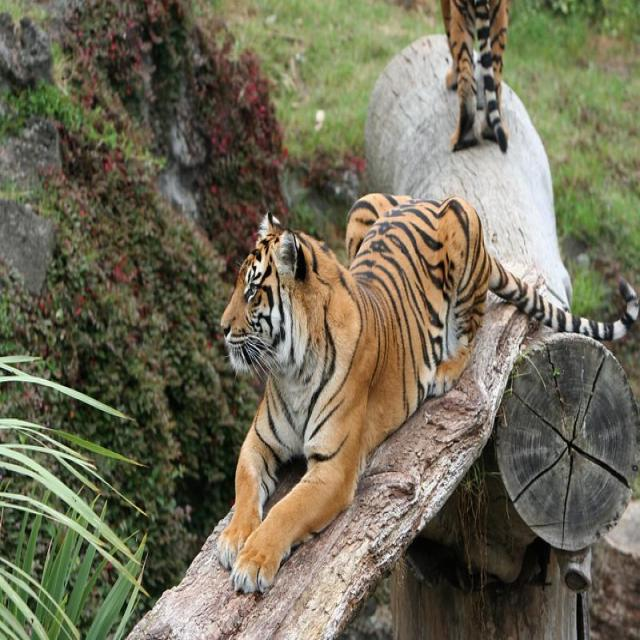Tiger: (218, 191, 628, 599), (440, 0, 508, 152)
